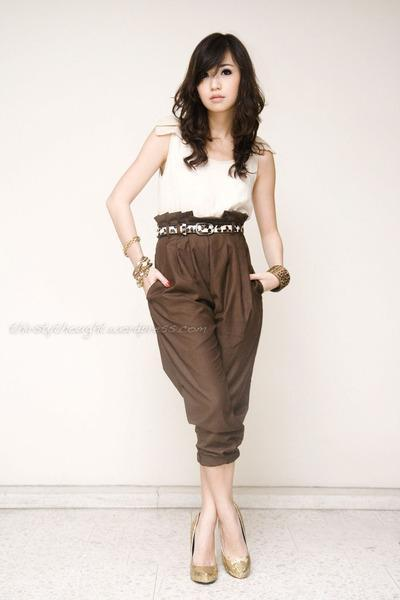pants: (146, 229, 263, 466)
shirt: (154, 136, 250, 216)
shoe: (190, 540, 250, 584)
